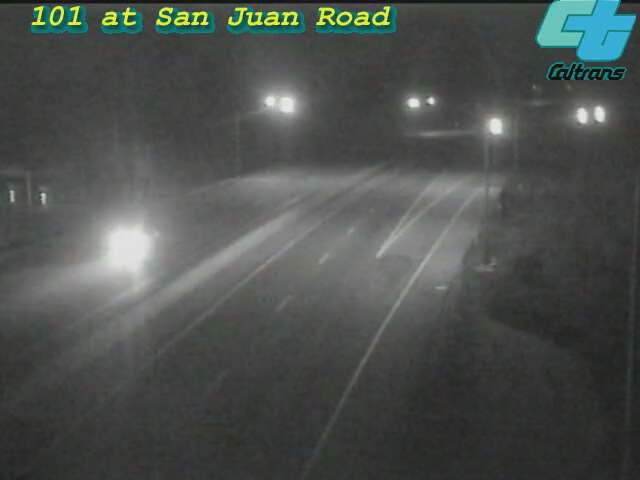vehicle: (92, 207, 172, 287), (469, 101, 519, 151), (554, 91, 604, 141), (575, 90, 625, 140)
